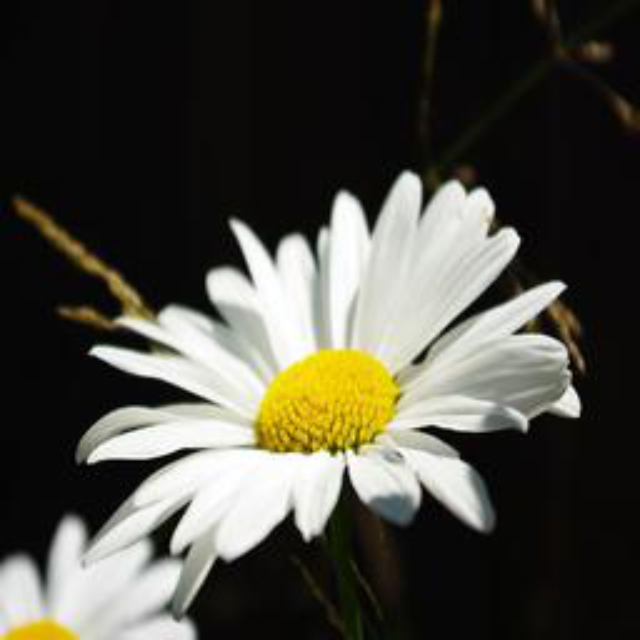daisy: (74, 166, 585, 625)
